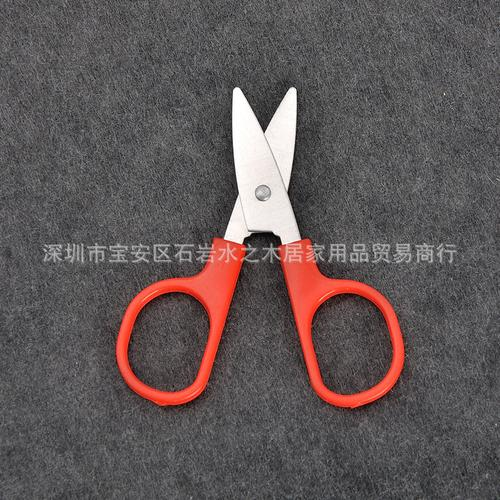scissor: (115, 85, 407, 410)
